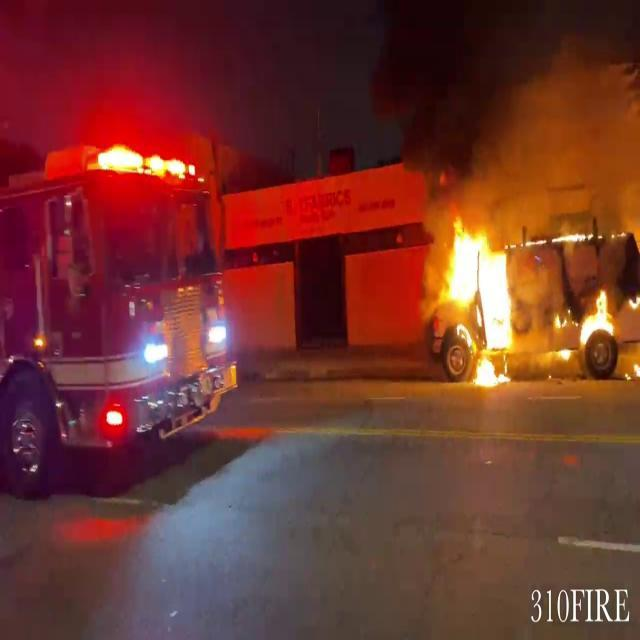Fire: (428, 213, 528, 384), (576, 286, 618, 352)
Smoke: (465, 6, 640, 248)
